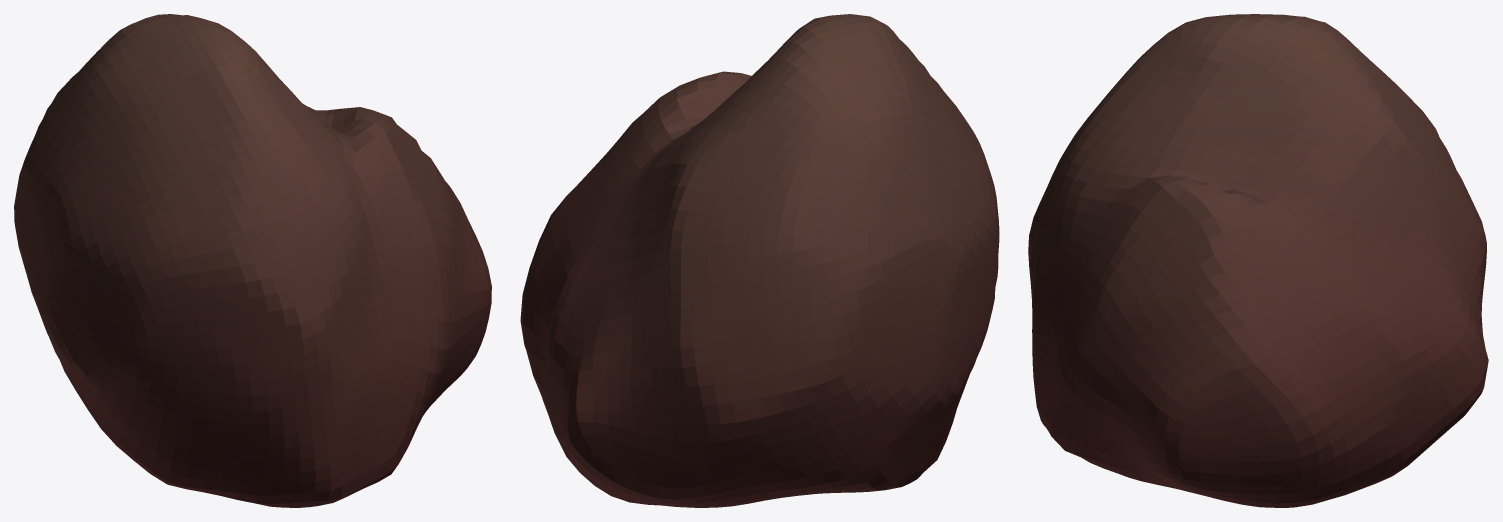
Rendered from Rock7_Textured.fbx.
3 views of the same model, side by side, from view 1: azimuth 30°, elevation 25°; view 2: azimuth 150°, elevation 25°; view 3: azimuth 270°, elevation 25° (orthographic). The views are drawn at different scales.
Visible parts, largest first — view 1: Burned_tree1_LowPoly:Group52277; view 2: Burned_tree1_LowPoly:Group52277; view 3: Burned_tree1_LowPoly:Group52277.
Boxes of the visible parts, box(x1,y1,x2,y2) form: Burned_tree1_LowPoly:Group52277: box(14, 14, 491, 507); Burned_tree1_LowPoly:Group52277: box(520, 14, 999, 507); Burned_tree1_LowPoly:Group52277: box(1028, 14, 1488, 507).
Bounding box in the file's own units: 1.68 × 1.8 × 1.79.
1 material, 1 textured.
